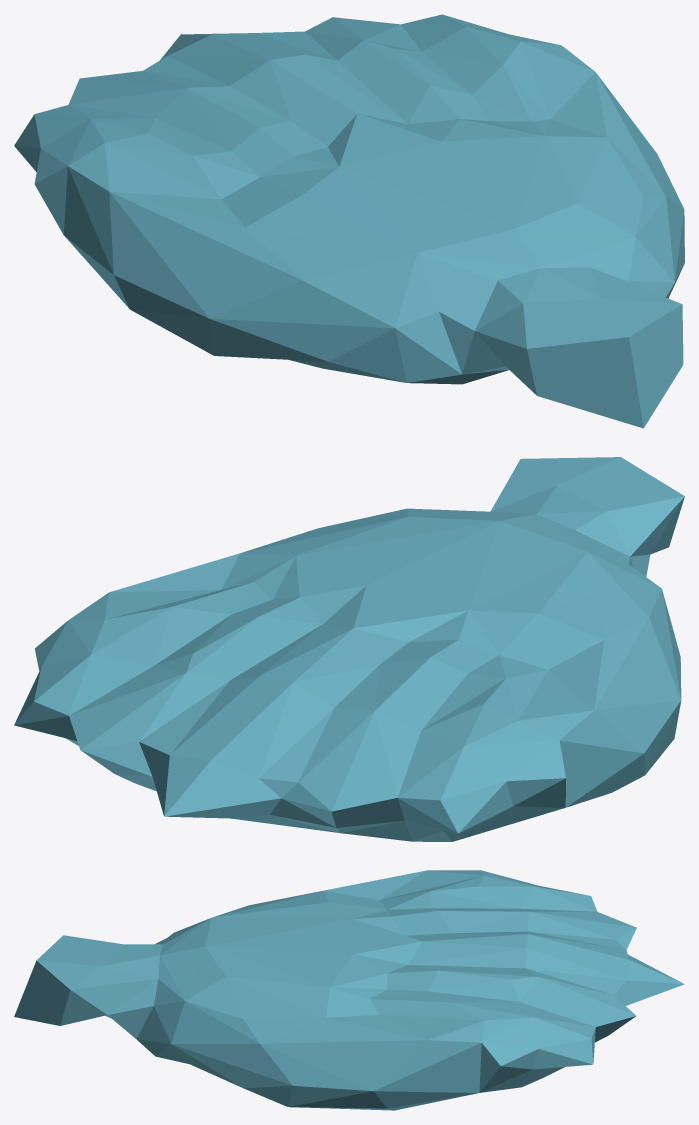
File: TealShell.fbx
3 views of the same model, one above another, from view 1: azimuth 30°, elevation 25°; view 2: azimuth 150°, elevation 25°; view 3: azimuth 270°, elevation 25° (orthographic). The views are drawn at different scales.
Visible parts, largest first — view 1: Cube; view 2: Cube; view 3: Cube.
Boxes of the visible parts, x1=… form: Cube: x1=14, y1=14, x2=684, y2=428; Cube: x1=14, y1=457, x2=684, y2=841; Cube: x1=14, y1=870, x2=684, y2=1110.
Size of the model in its own units: 203 by 45.66 by 309.
